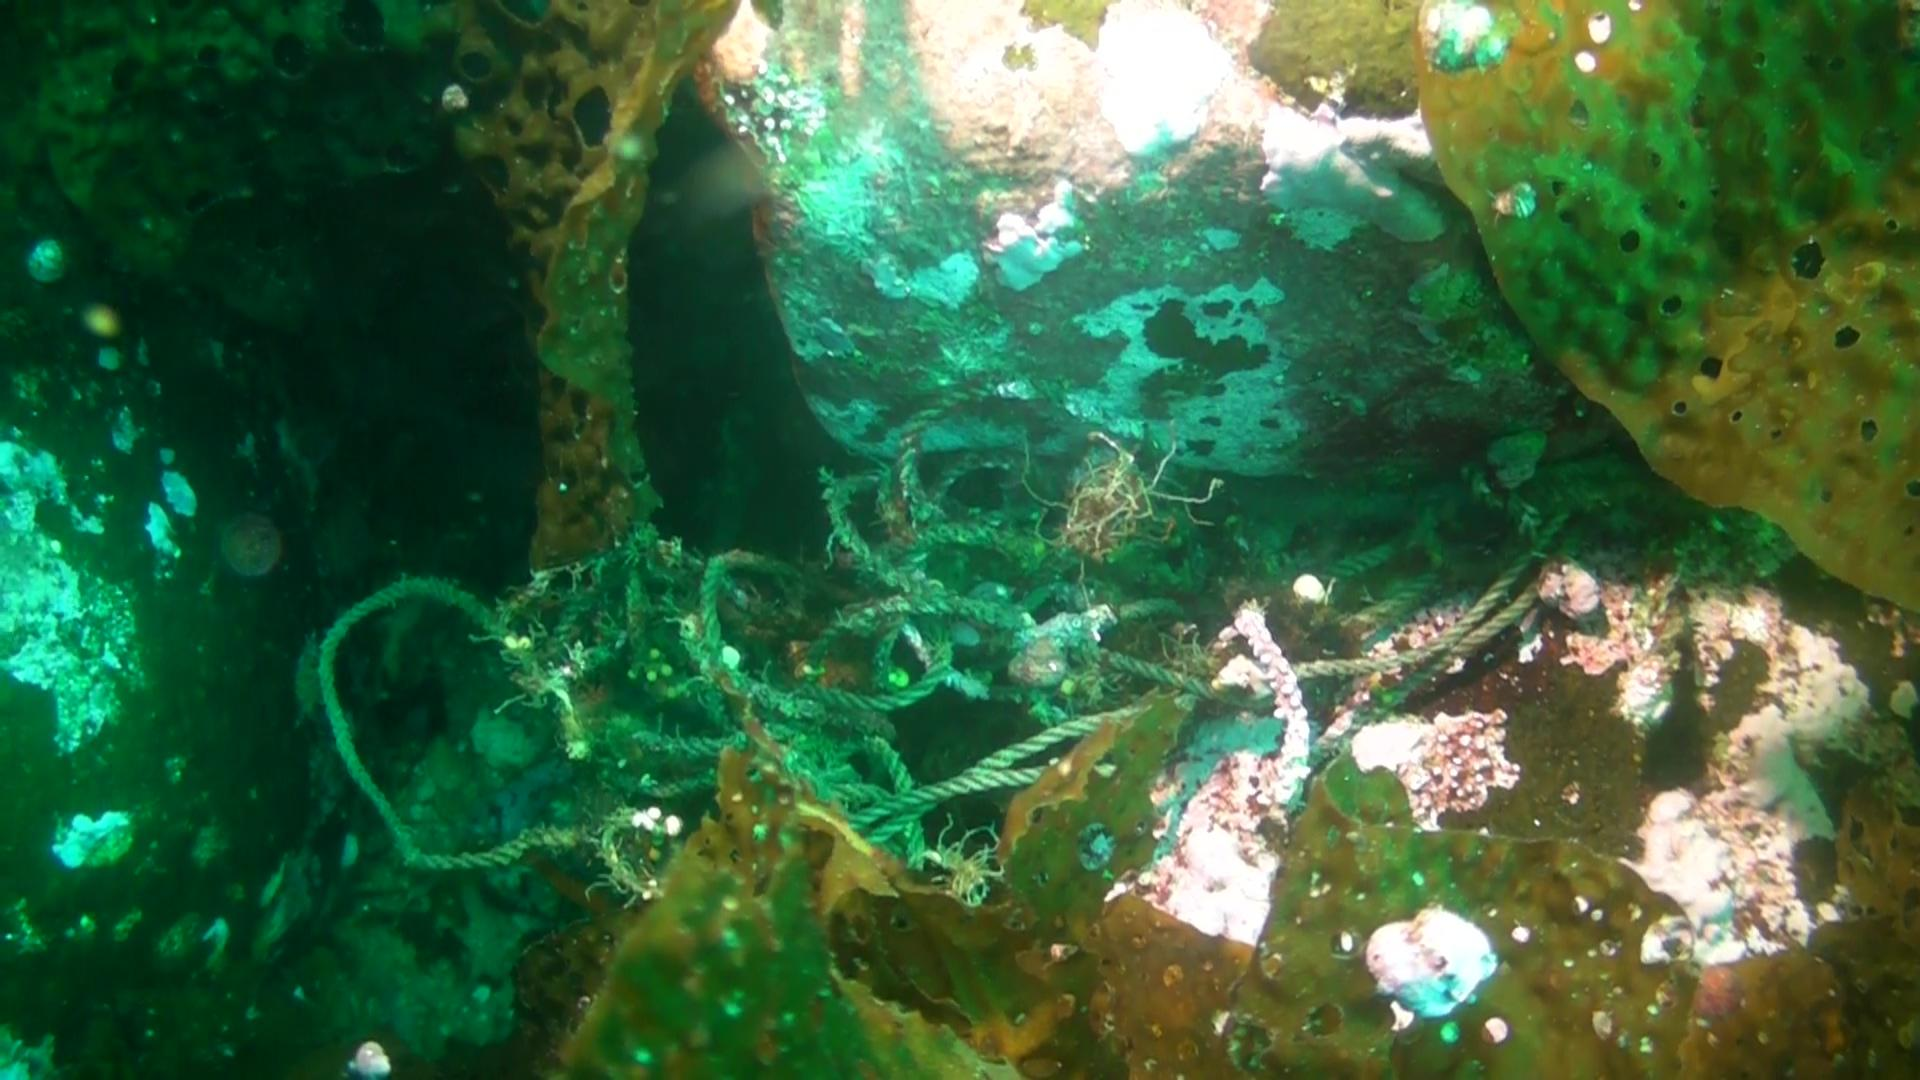bundle of ropes: (314, 371, 1572, 872)
